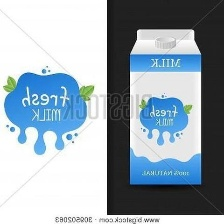carton: (123, 25, 209, 188)
